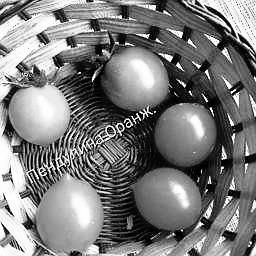bukan telur: (35, 172, 104, 254), (130, 168, 203, 230), (103, 48, 171, 109), (154, 104, 217, 167), (9, 86, 72, 145)
